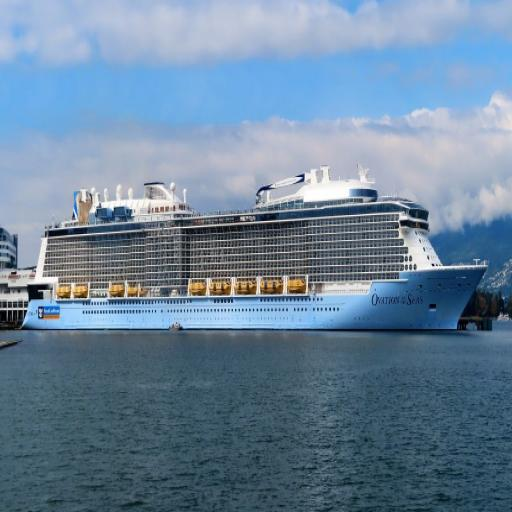cruises: (18, 159, 491, 340)
